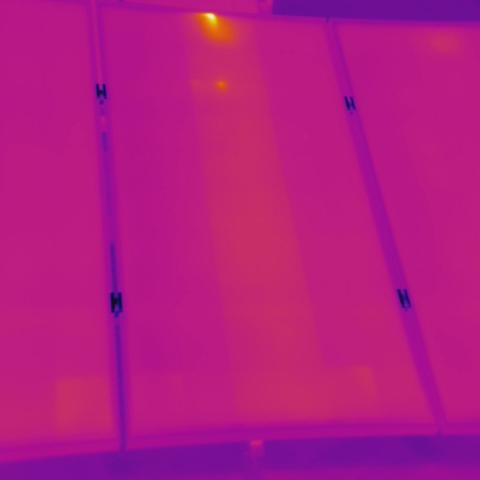fault: (201, 10, 226, 34)
